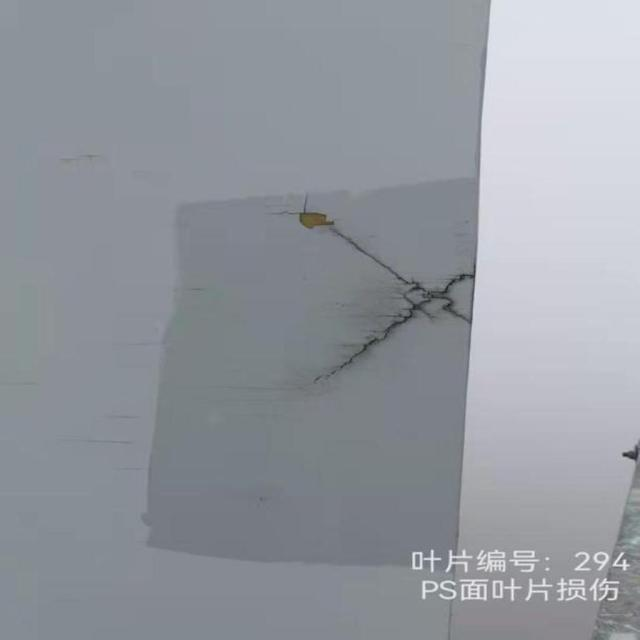crack: (308, 231, 468, 387)
surface_peeling: (296, 210, 334, 232)
